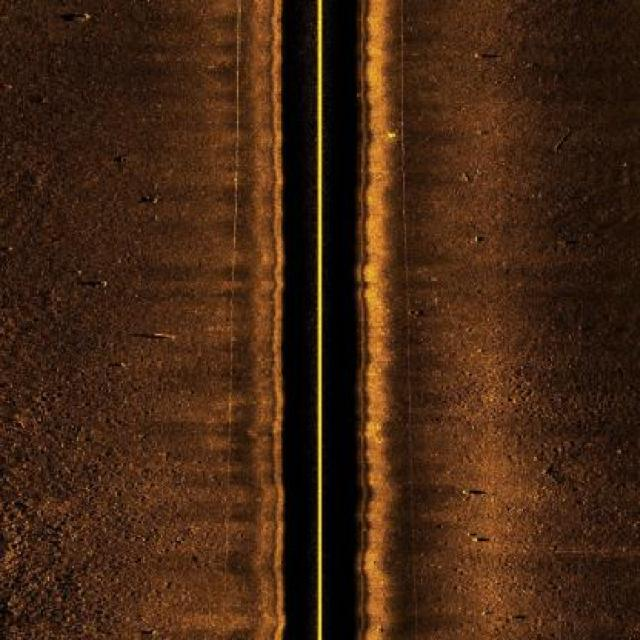mine: (129, 330, 180, 345)
